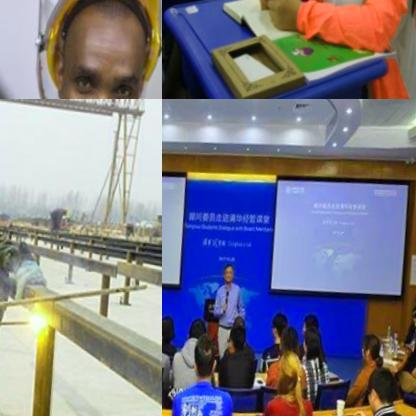head: (372, 358, 409, 408), (280, 341, 311, 390), (196, 326, 226, 374), (228, 313, 254, 353), (283, 318, 307, 352), (304, 319, 328, 352), (190, 309, 212, 344), (364, 323, 386, 357), (273, 306, 293, 335), (305, 303, 325, 332), (164, 308, 182, 338), (162, 310, 171, 348), (225, 257, 239, 276)
helmet: (10, 0, 162, 99)
